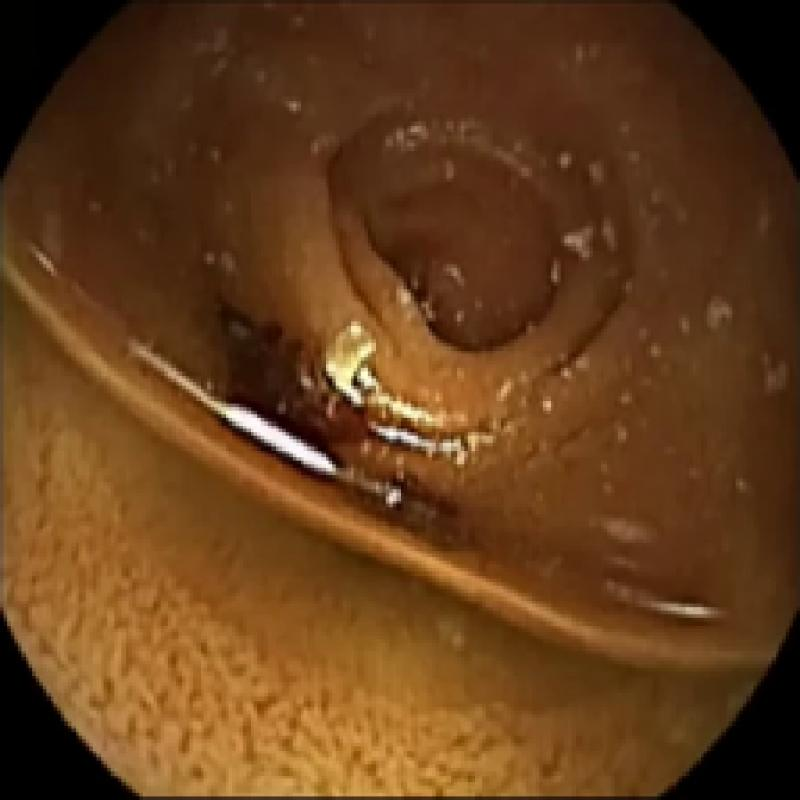bleeding: (218, 293, 453, 546)
